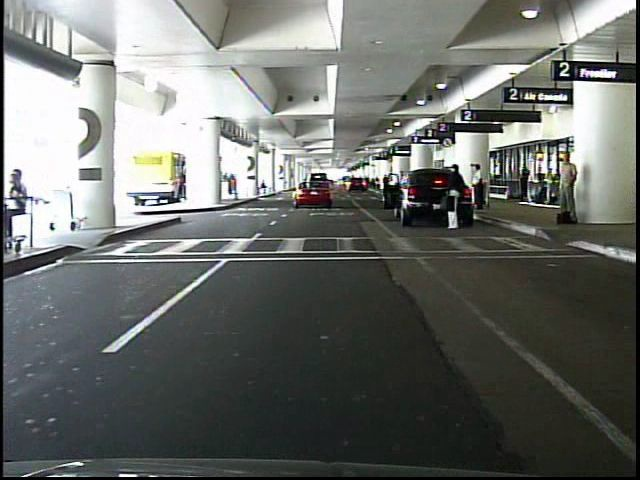person: (2, 168, 35, 237), (445, 165, 465, 232), (470, 164, 486, 212), (518, 162, 531, 201)
